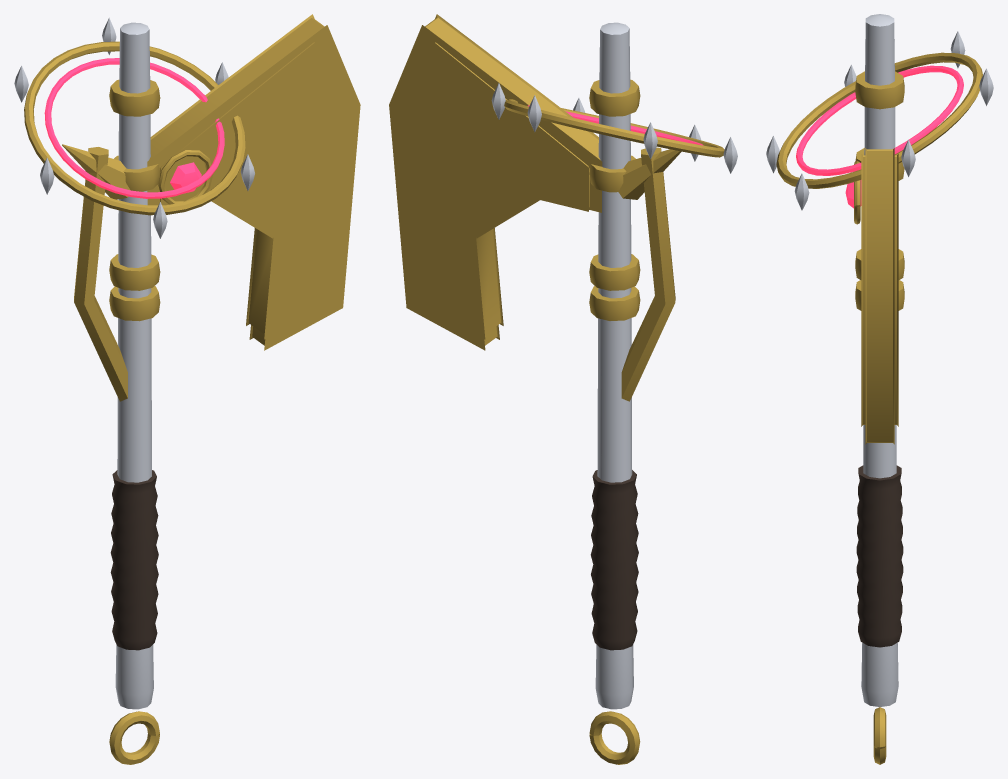
The model's file is esc_w_knight_axe_1.glb.
3 renders of one model, left to right at view 1: azimuth 30°, elevation 25°; view 2: azimuth 150°, elevation 25°; view 3: azimuth 270°, elevation 25°, orthographic.
Parts seen in each view (by area): view 1: esc_w_knight_axe_1; view 2: esc_w_knight_axe_1; view 3: esc_w_knight_axe_1.
Part boxes in pixels (left/top/right/bottom): esc_w_knight_axe_1: left=14, top=14, right=360, bottom=764; esc_w_knight_axe_1: left=389, top=14, right=737, bottom=764; esc_w_knight_axe_1: left=766, top=14, right=993, bottom=764.
Size of the model in its own units: 0.4514 by 0.976 by 0.2702.
